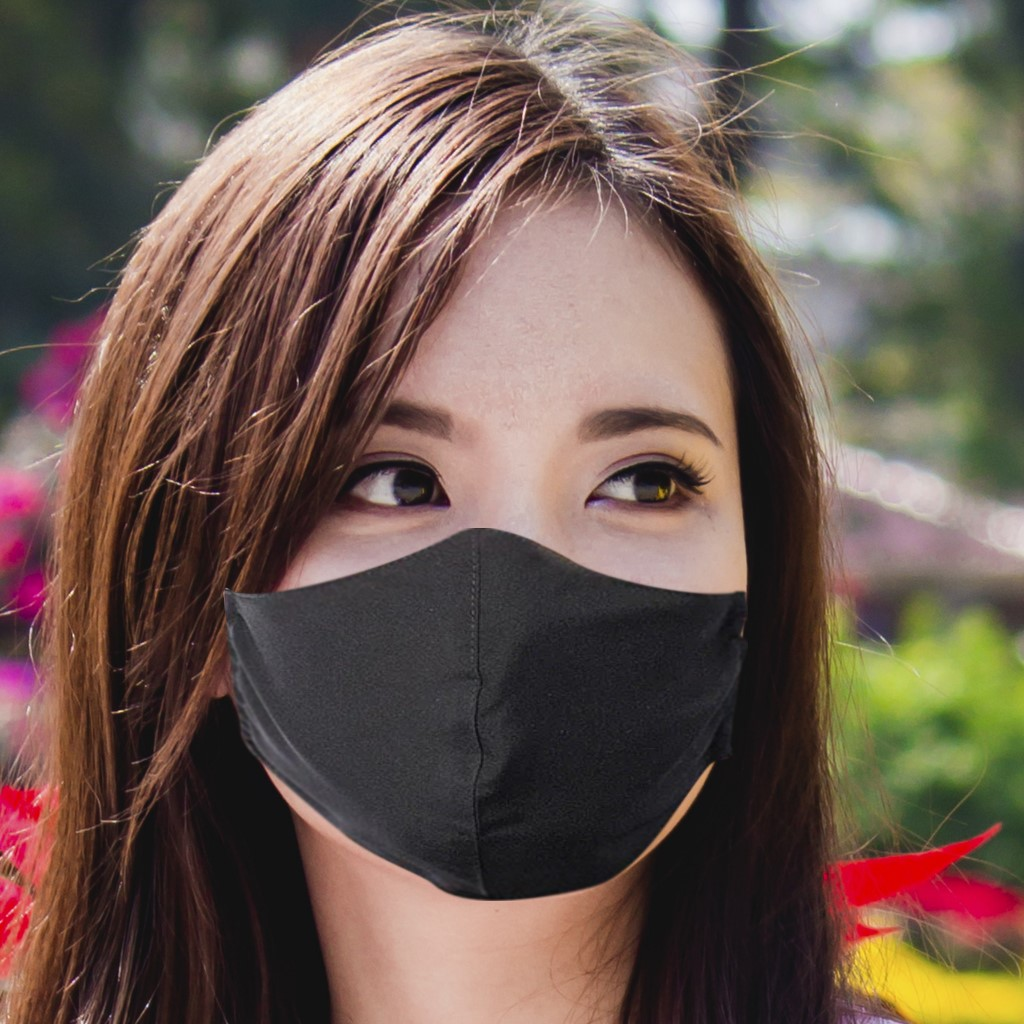con_mascara: (166, 184, 781, 887)
